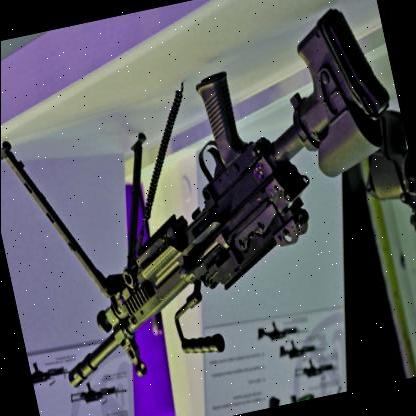rifle: (0, 35, 416, 399), (72, 374, 130, 407), (252, 310, 306, 344), (27, 352, 70, 389), (291, 352, 340, 383), (272, 334, 321, 362)
